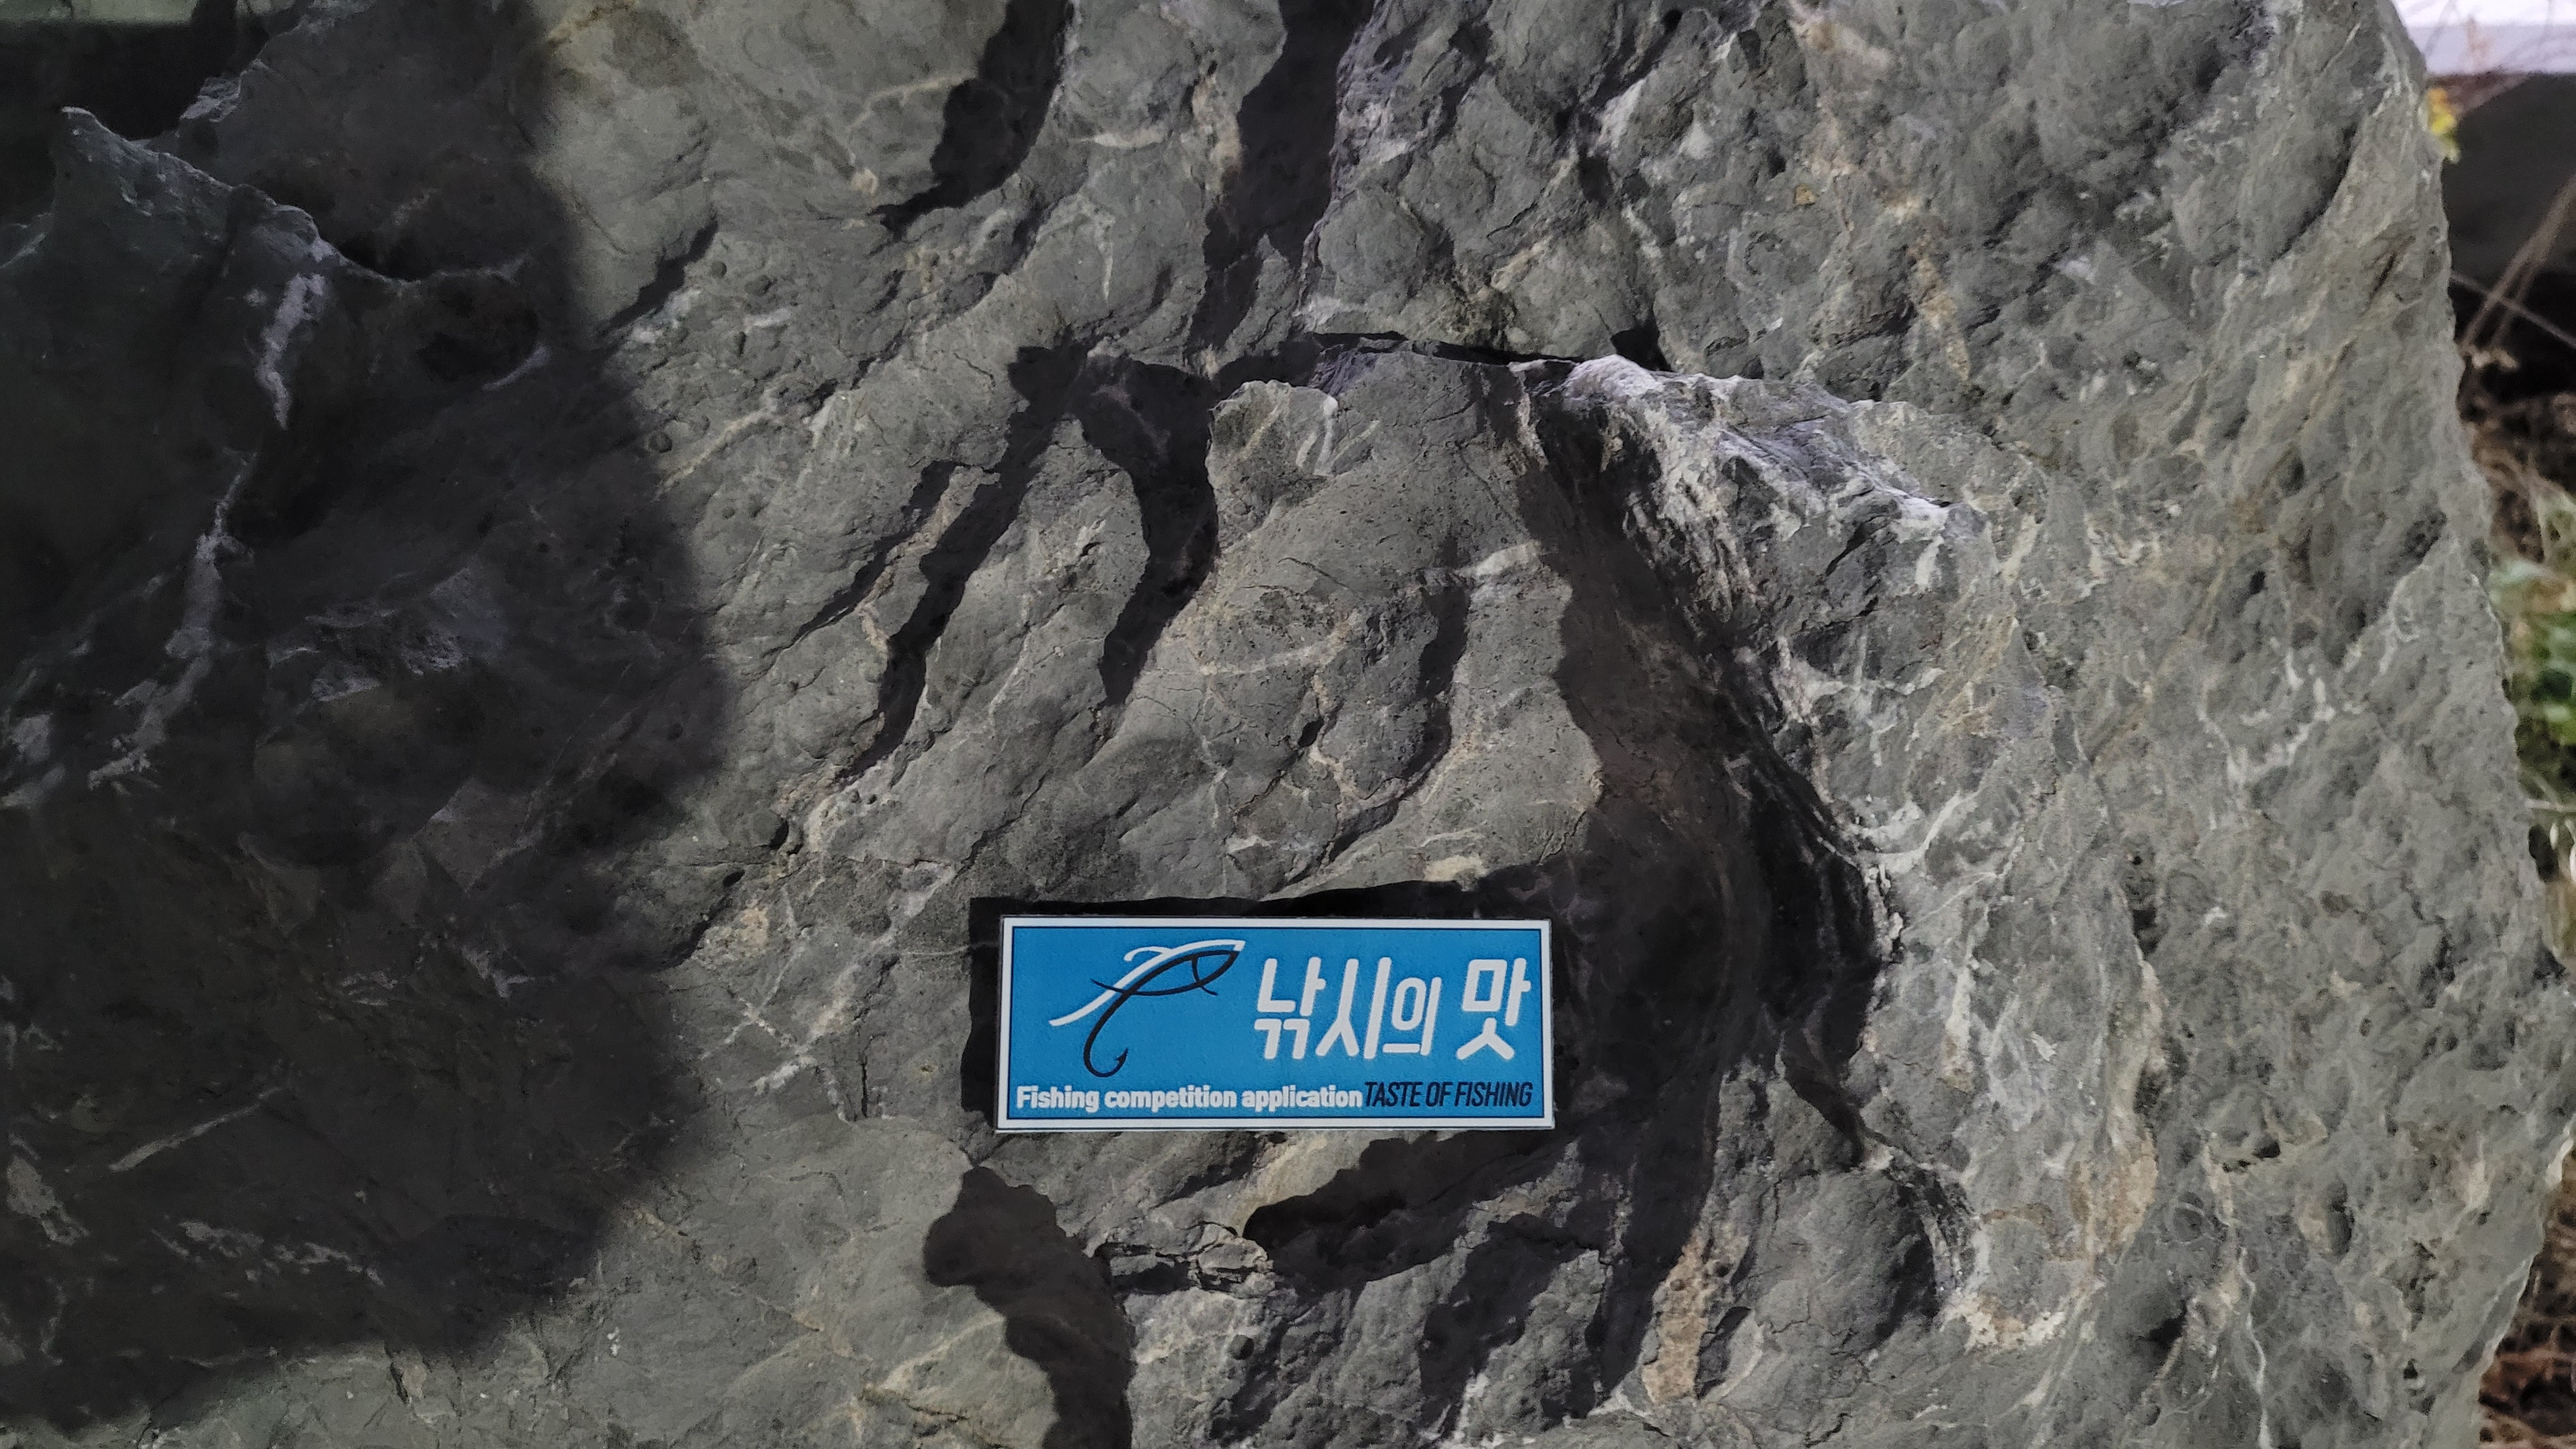tag: (1007, 915, 1553, 1129)
